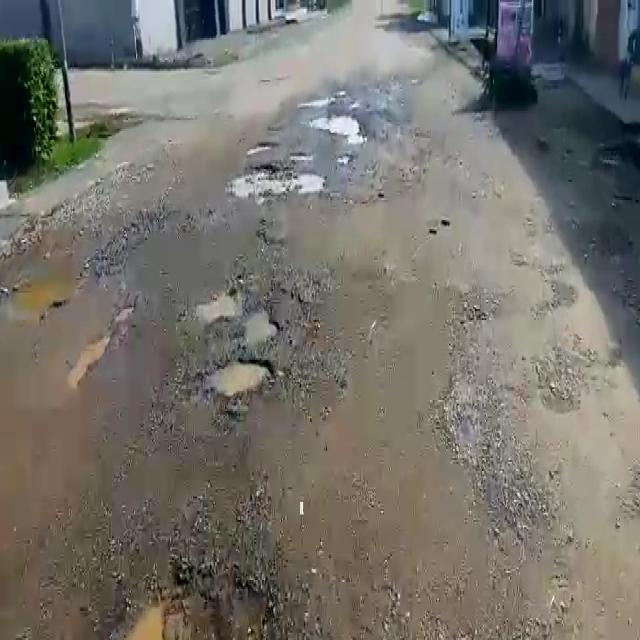Pothole: (196, 286, 280, 343), (202, 355, 274, 402), (230, 168, 328, 200), (306, 110, 364, 139), (248, 138, 275, 151)
